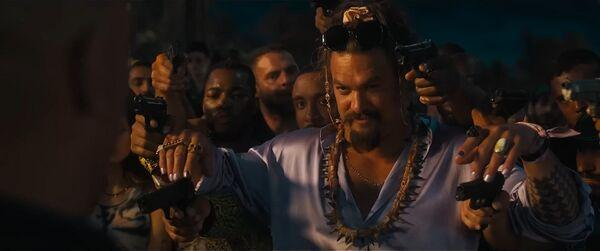Gun: (138, 176, 195, 217), (455, 173, 507, 208), (396, 40, 441, 70), (560, 79, 600, 107), (487, 87, 531, 112), (134, 94, 167, 122), (167, 42, 183, 72)
